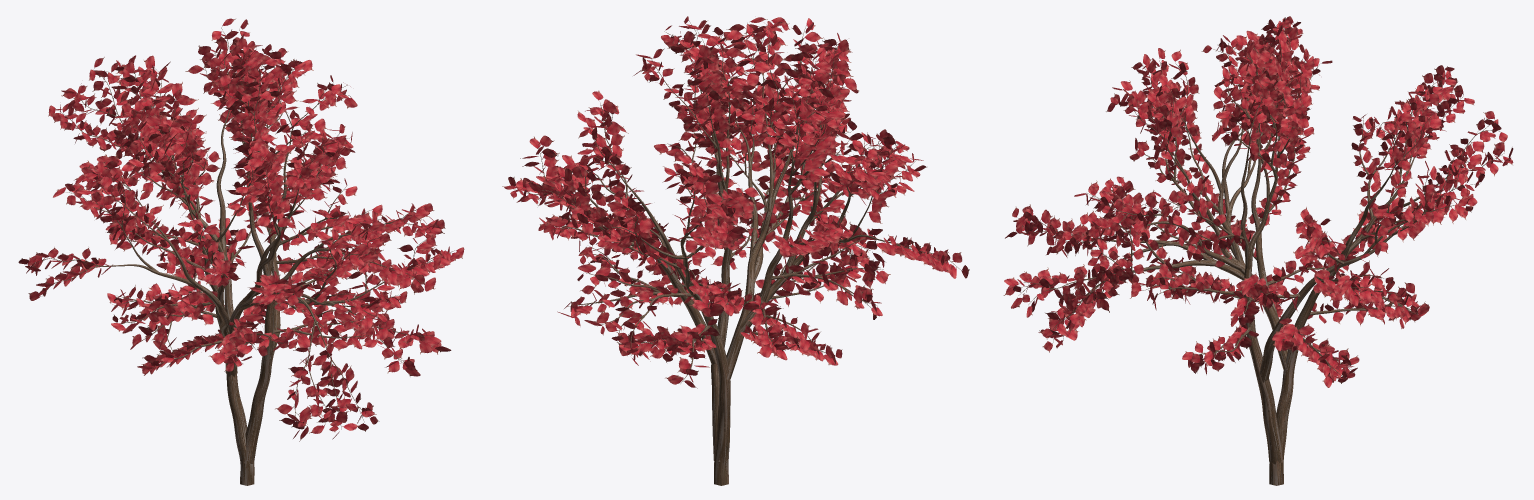
Rendered from Amazonie_Arbre_27.fbx.
3 renders of one model, left to right at view 1: azimuth 30°, elevation 25°; view 2: azimuth 150°, elevation 25°; view 3: azimuth 270°, elevation 25°, orthographic. The views are drawn at different scales.
Parts seen in each view (by area): view 1: Plane.001, tree; view 2: Plane.001, tree; view 3: Plane.001, tree.
Boxes of the visible parts, left/top/right/bottom form: Plane.001: left=18, top=18, right=464, bottom=441; tree: left=29, top=27, right=454, bottom=485; Plane.001: left=502, top=16, right=969, bottom=388; tree: left=513, top=21, right=960, bottom=485; Plane.001: left=1003, top=16, right=1513, bottom=387; tree: left=1018, top=24, right=1504, bottom=485.
Size of the model in its own units: 612 by 683 by 731.
